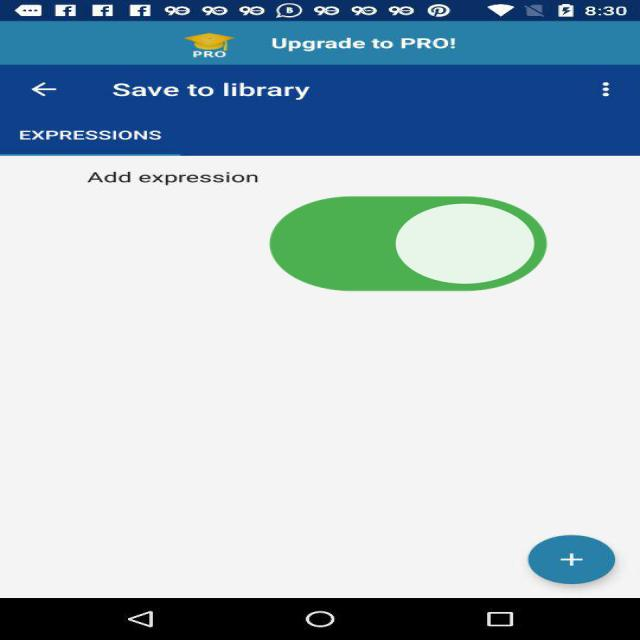social proof: (258, 160, 560, 335)
